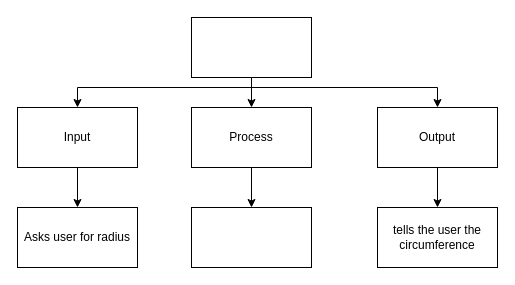
The diagram is 515 pixels wide and 285 high, and some of its shapes have lost their labels. The shapes that lost their labels are listed below. From the top down, each one's box as (x1, y1, x2, y2) in pixels, then its label:
(190, 16, 312, 78): Circumference Program
(190, 206, 312, 268): circumference = tau * radius
